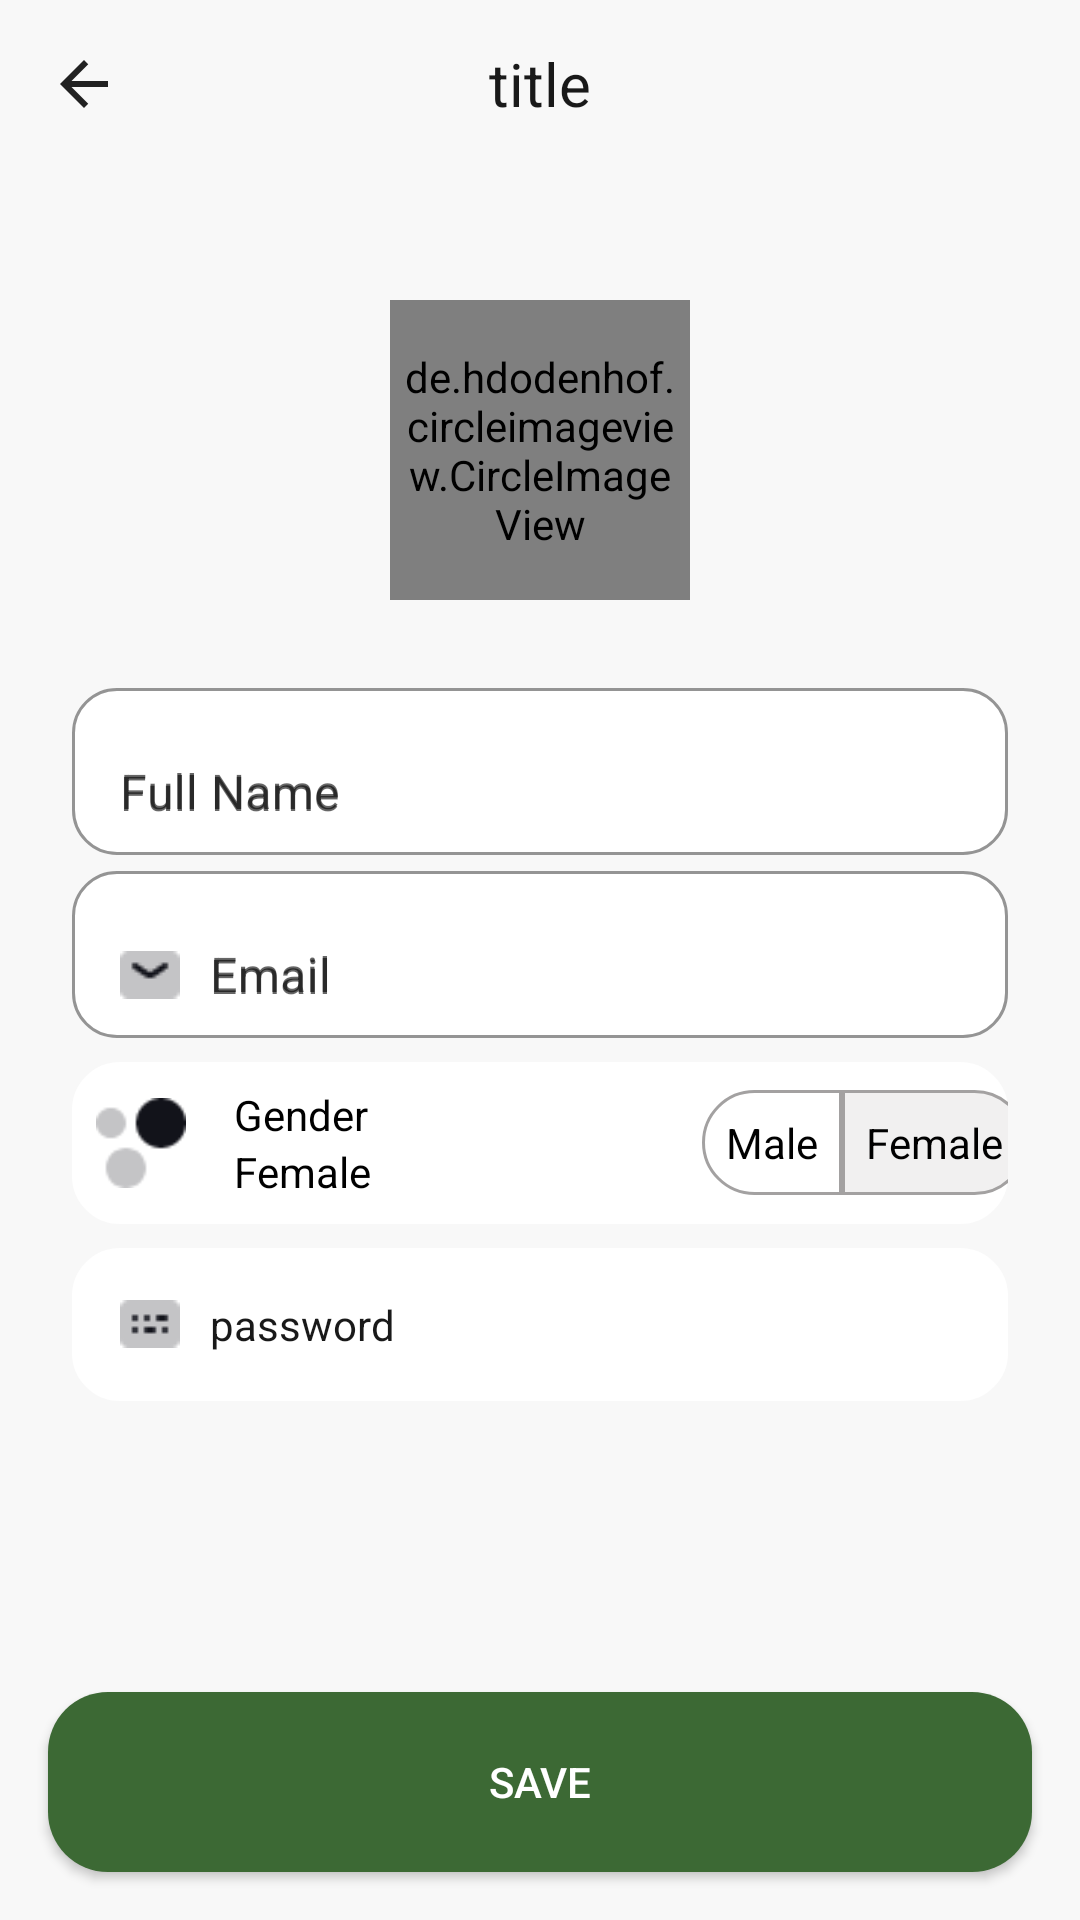

Locate icon controls on the screen. Image size 1080*1920, boxes as region(x1, y1, x2, y2).
arrow back: region(60, 60, 108, 108)
bubble: region(96, 1098, 186, 1188)
